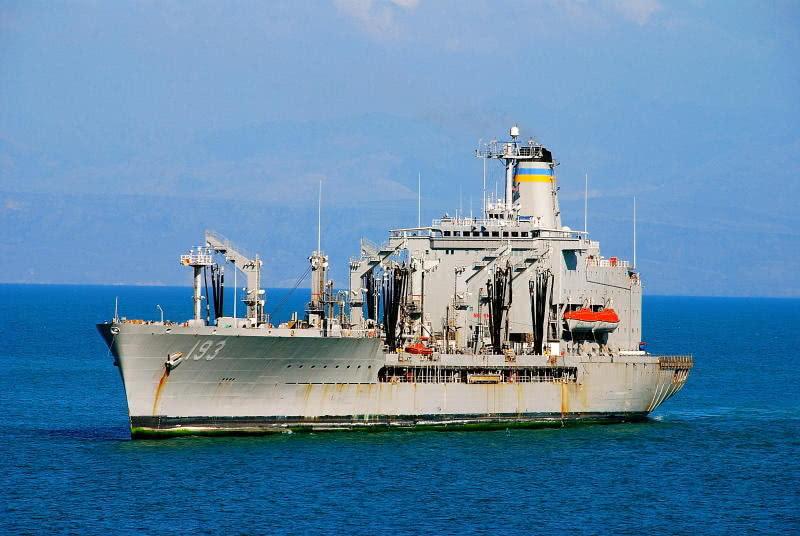warship: (89, 120, 696, 446)
